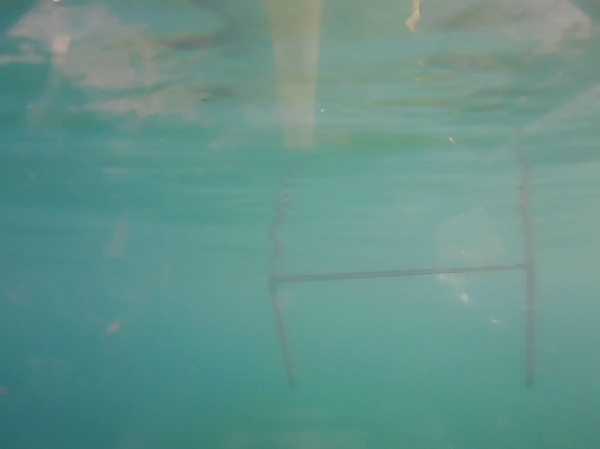qual_gate: (268, 278, 299, 388), (522, 261, 536, 392)
